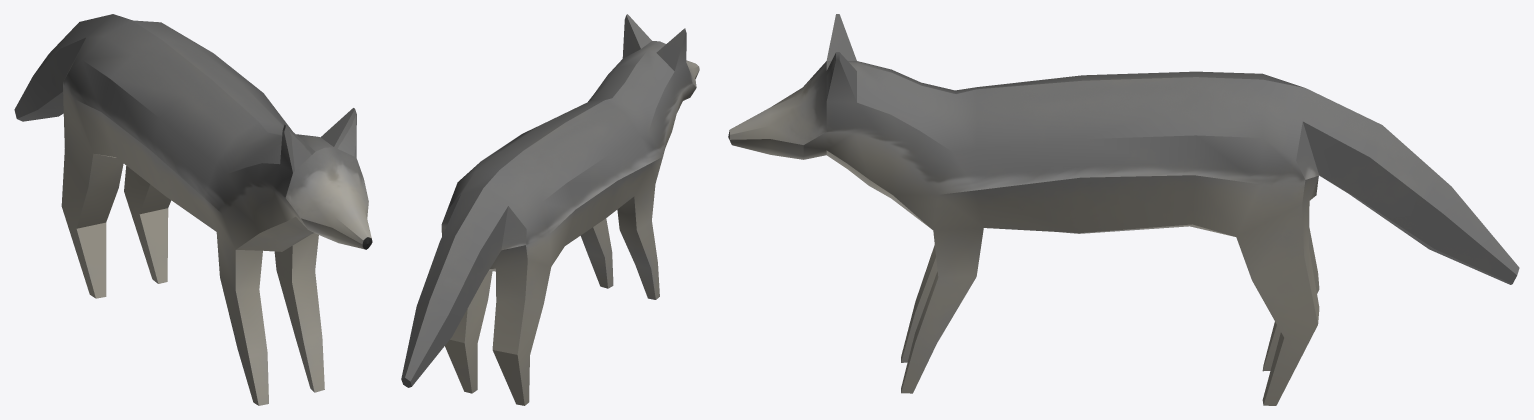
File: wolf.fbx
The picture shows the model from 3 angles, left to right: view 1: azimuth 30°, elevation 25°; view 2: azimuth 150°, elevation 25°; view 3: azimuth 270°, elevation 25°; orthographic projection. The views are drawn at different scales.
Parts seen in each view (by area): view 1: wolf; view 2: wolf; view 3: wolf.
Part boxes in pixels (x1=…): wolf: x1=14, y1=14, x2=372, y2=405; wolf: x1=401, y1=14, x2=699, y2=405; wolf: x1=728, y1=14, x2=1519, y2=405.
Bounding box in the file's own units: 21.54 × 52.3 × 106.
